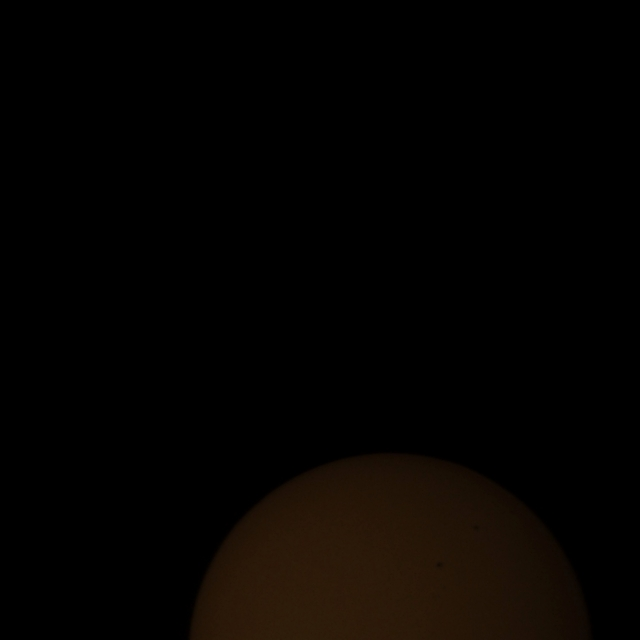sunspot: (435, 561, 444, 569)
